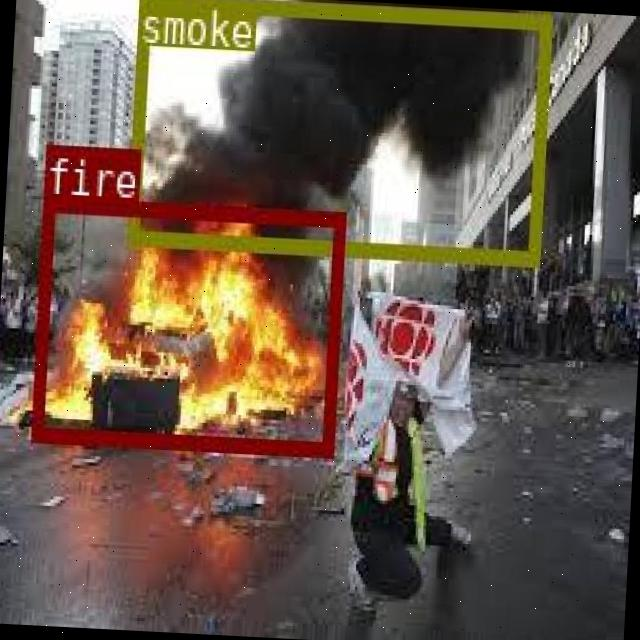fire: (30, 194, 344, 453)
smoke: (126, 0, 549, 262)
